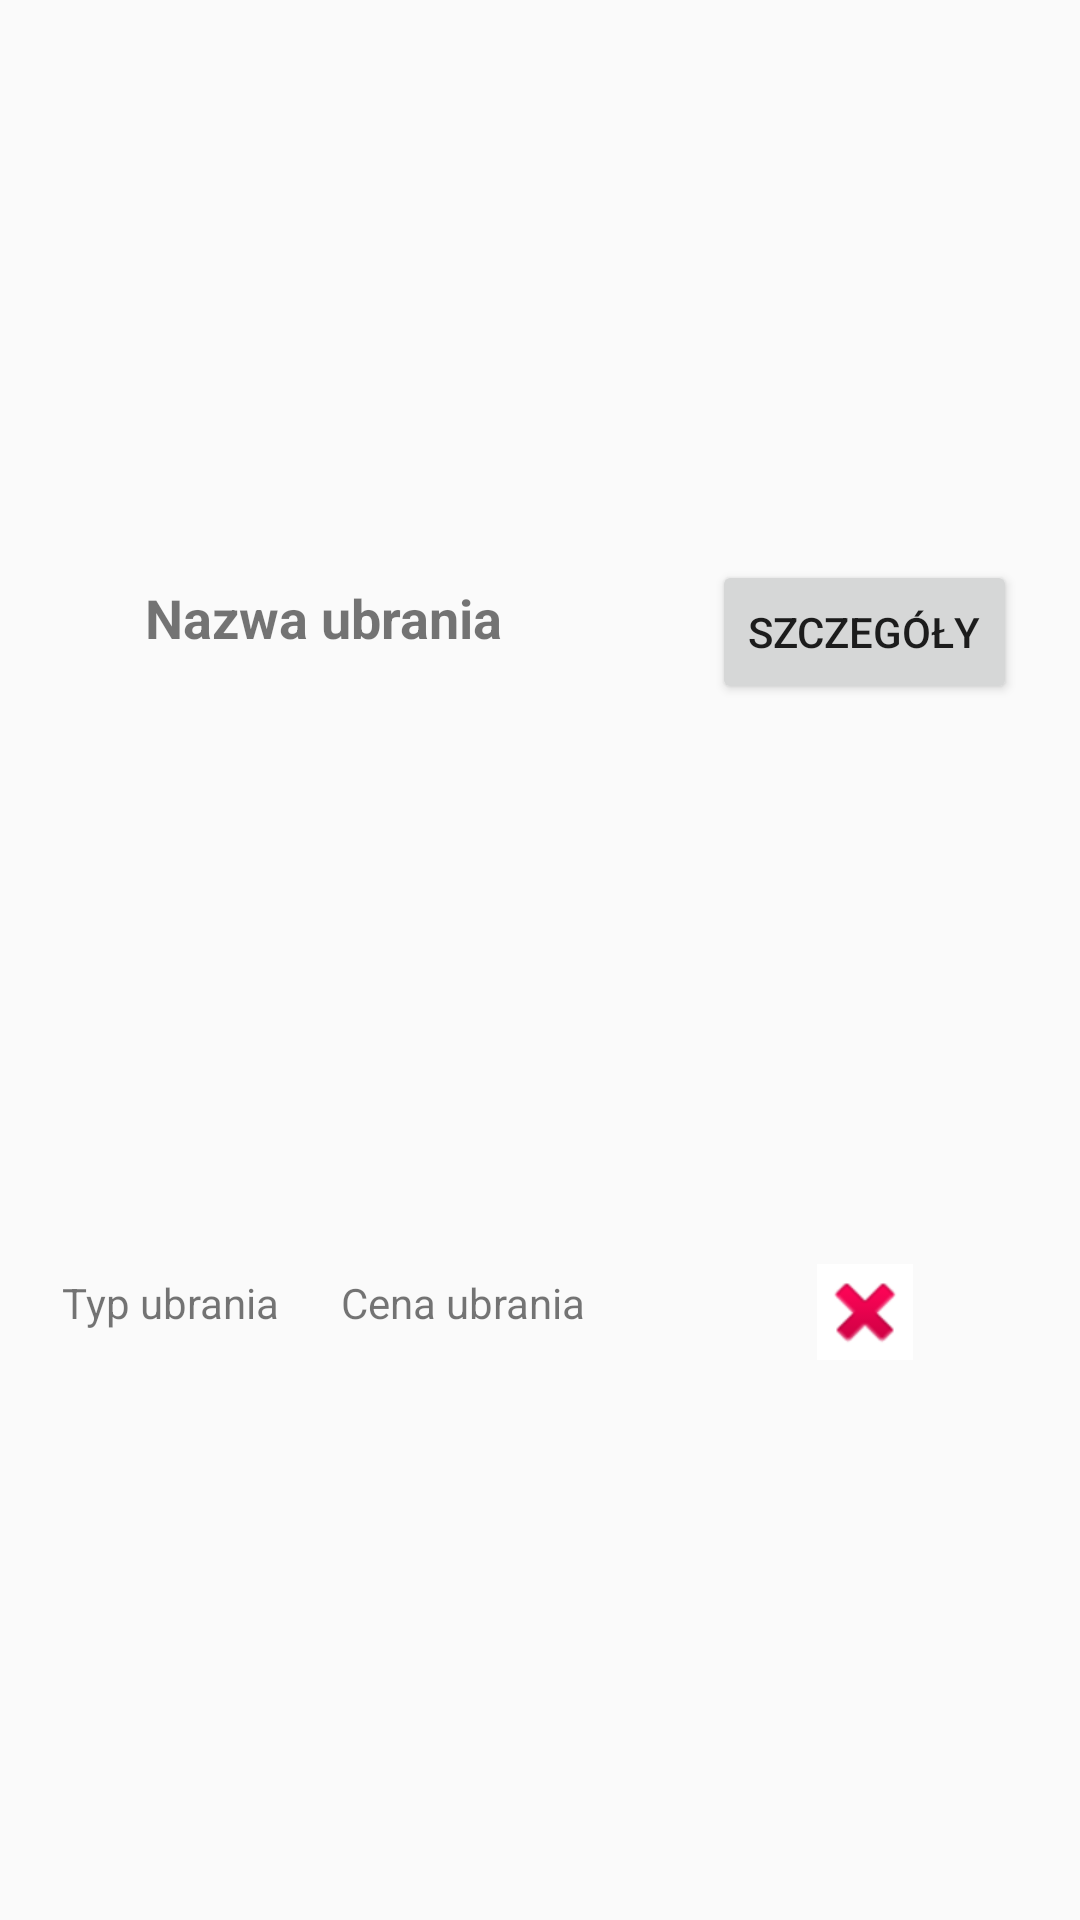

Locate icon controls on the screen. Image size 1080 × 1920, boxes as (left=x1, top=y1, right=x2, bottom=y2).
Usuń element: (left=834, top=1283, right=896, bottom=1342)
